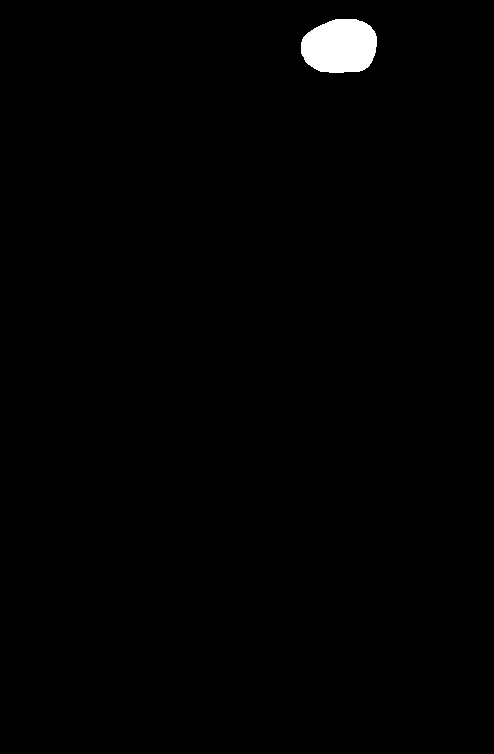veins_detect: (297, 16, 382, 80)
veins_seg: (301, 20, 376, 73)
